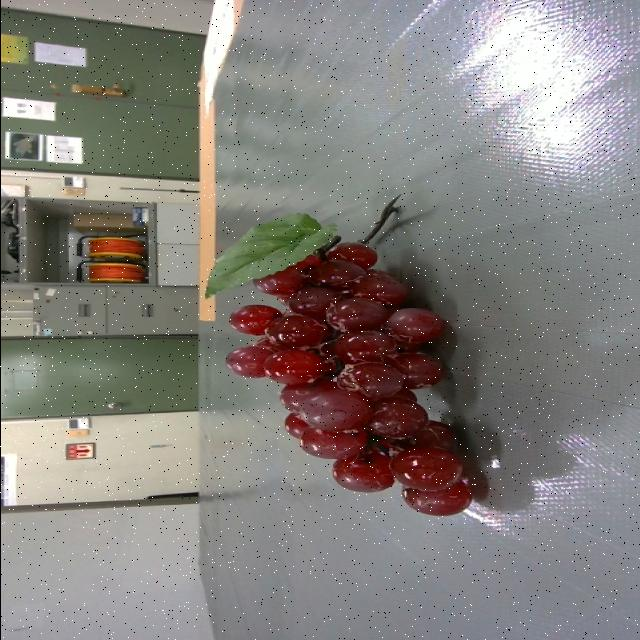grape: (206, 201, 472, 516), (350, 348, 355, 350)
